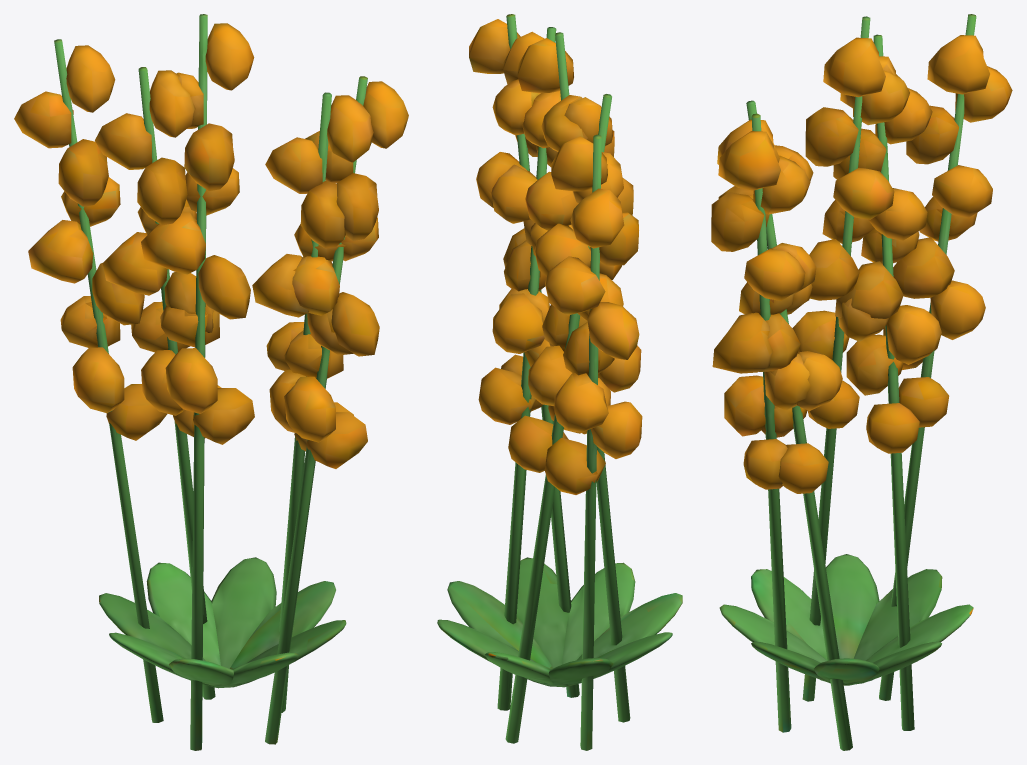
Rendered from crop_snapdragon.glb.
3 renders of one model, left to right at view 1: azimuth 30°, elevation 25°; view 2: azimuth 150°, elevation 25°; view 3: azimuth 270°, elevation 25°, orthographic.
Visible parts, largest first — view 1: fruit, crop_snapdragon; view 2: fruit, crop_snapdragon; view 3: fruit, crop_snapdragon.
Boxes of the visible parts, x1=… form: fruit: x1=14, y1=23, x2=408, y2=468; crop_snapdragon: x1=54, y1=14, x2=367, y2=750; fruit: x1=469, y1=19, x2=642, y2=494; crop_snapdragon: x1=437, y1=14, x2=682, y2=750; fruit: x1=711, y1=35, x2=1012, y2=493; crop_snapdragon: x1=719, y1=14, x2=976, y2=750.
Size of the model in its own units: 0.1422 by 0.3573 by 0.1395.
1 material, 1 textured.
